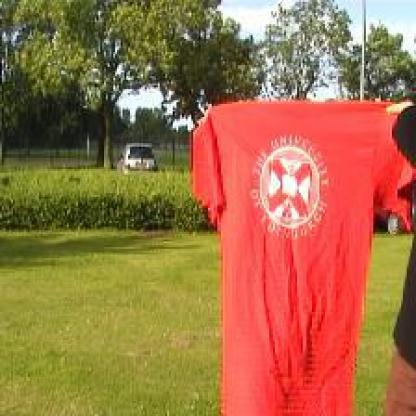other: (182, 93, 401, 408)
